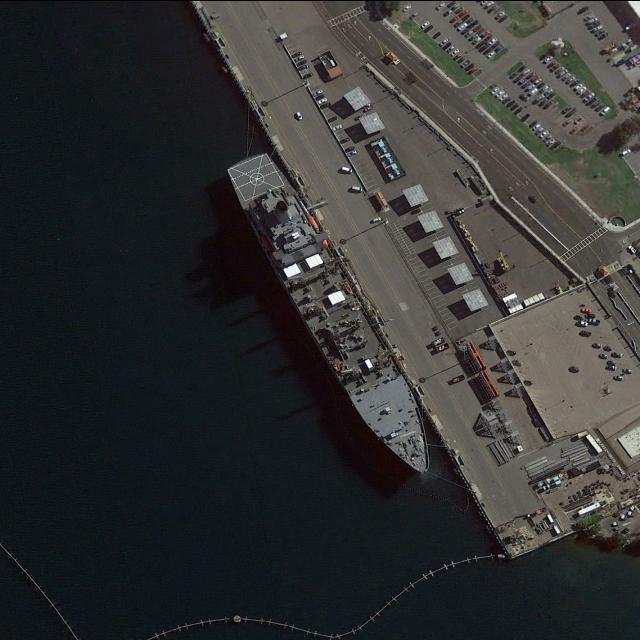ship: (222, 150, 432, 474)
